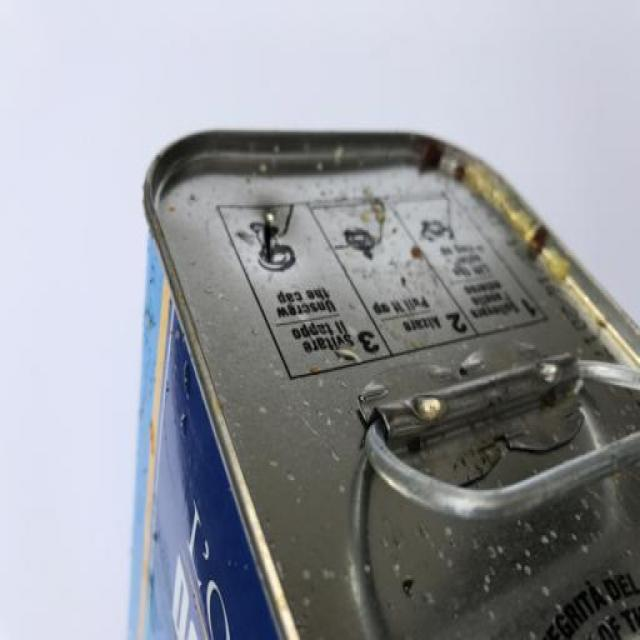metel: (132, 86, 640, 640)
